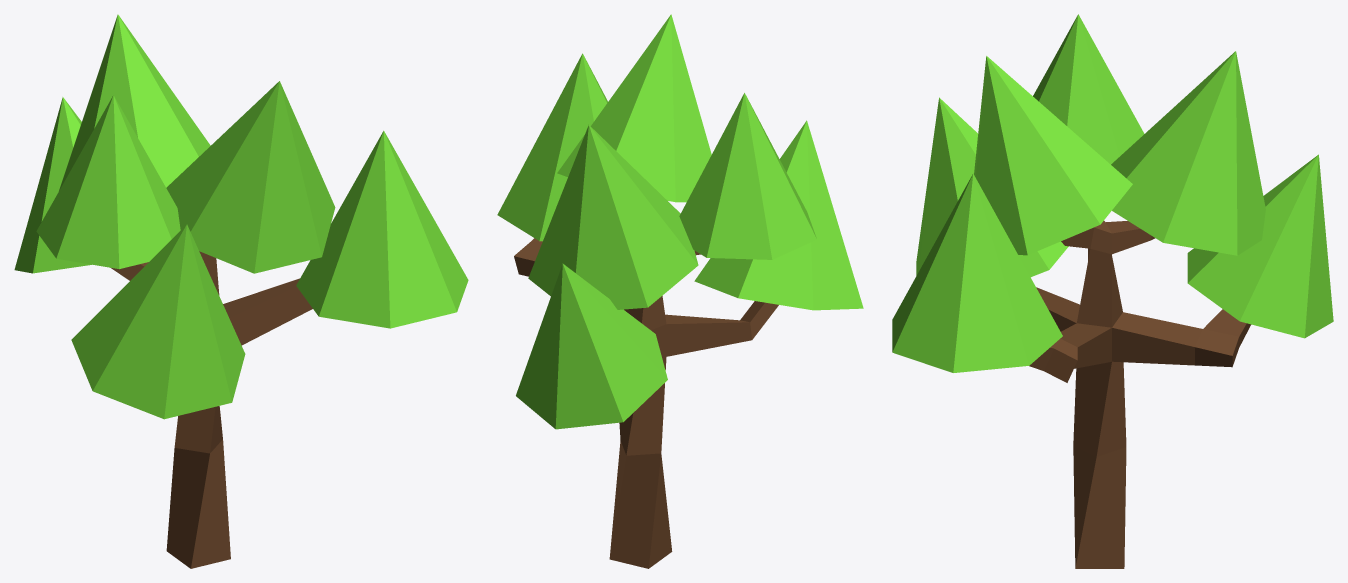
The model's file is arvare.fbx.
3 renders of one model, left to right at view 1: azimuth 30°, elevation 25°; view 2: azimuth 150°, elevation 25°; view 3: azimuth 270°, elevation 25°, orthographic. The views are drawn at different scales.
Parts seen in each view (by area): view 1: Cube; view 2: Cube; view 3: Cube.
Part boxes in pixels (x1,y1,x2,y2): Cube: (14,14,468,568); Cube: (497,14,863,568); Cube: (892,14,1333,568).
Bounding box in the file's own units: 684 × 912 × 707.
